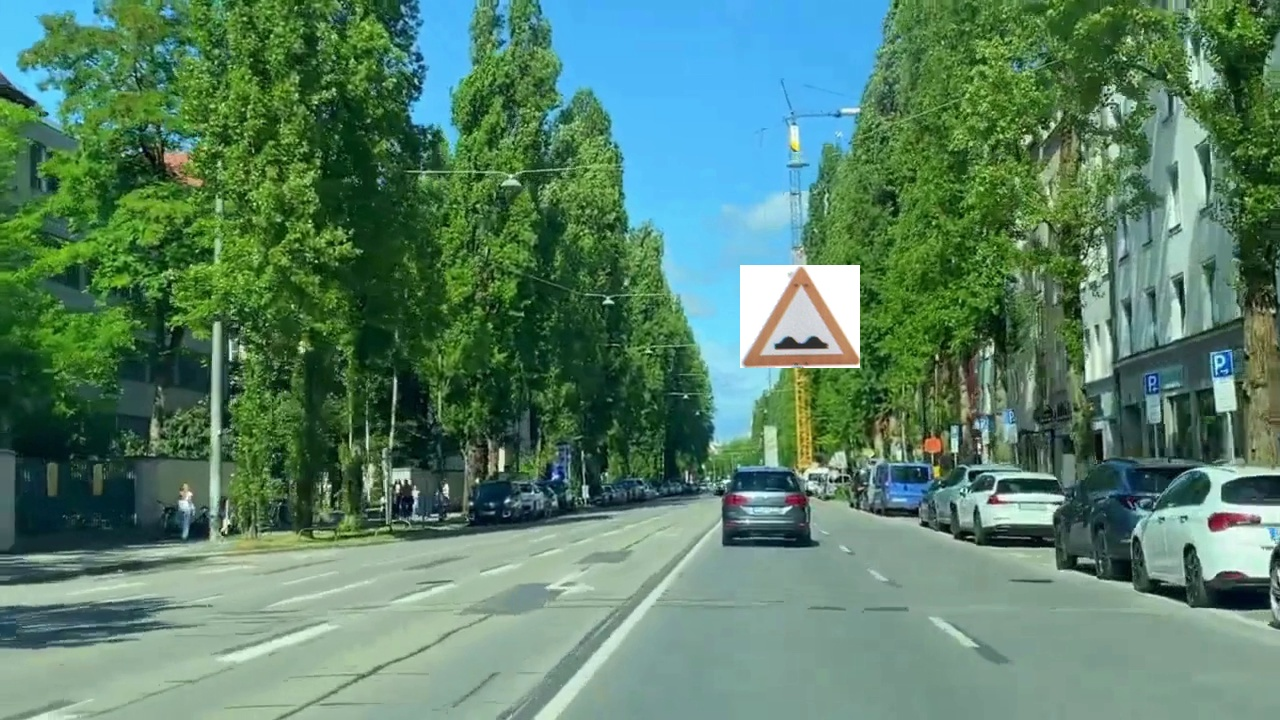Bumpy road: (740, 265, 860, 368)
